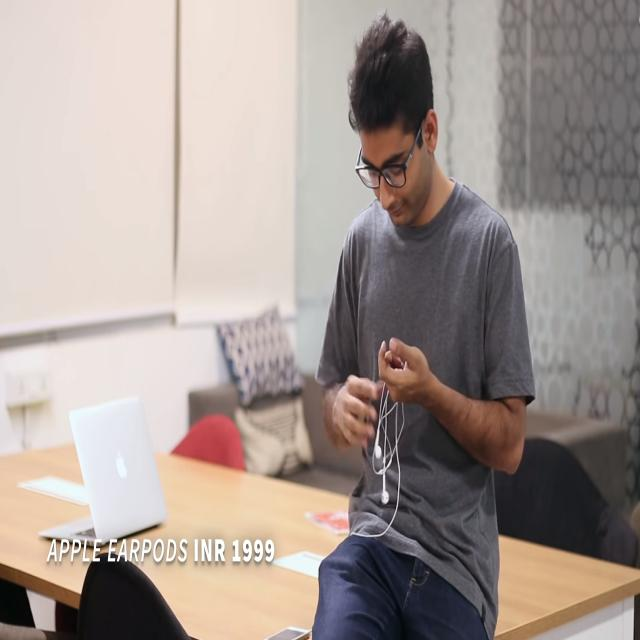Earphone: (350, 353, 406, 541)
